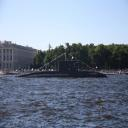submarine: (18, 60, 109, 79)
